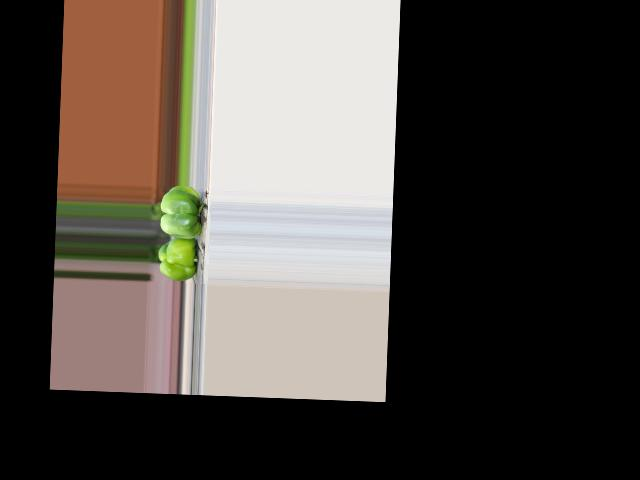bell_pepper: (155, 236, 201, 283)
